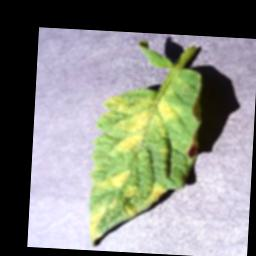Leaf_Mold: (96, 83, 182, 157), (86, 195, 140, 247), (90, 166, 131, 194), (142, 180, 167, 211), (126, 184, 138, 197)
